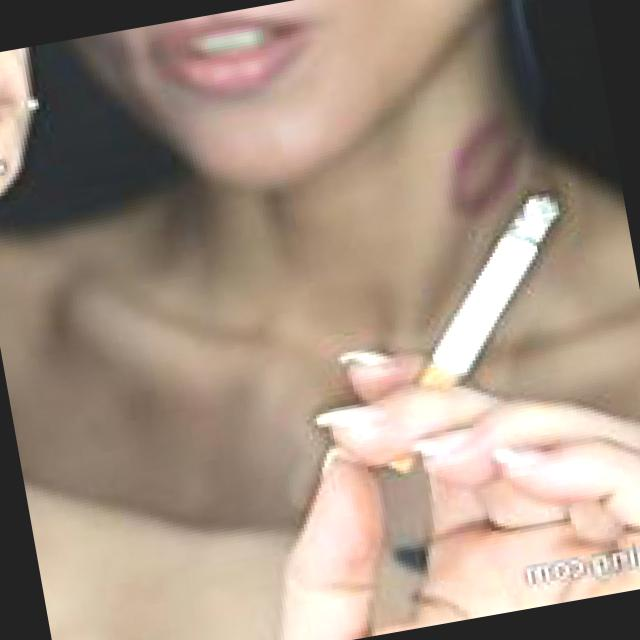smoke: (330, 163, 631, 488)
